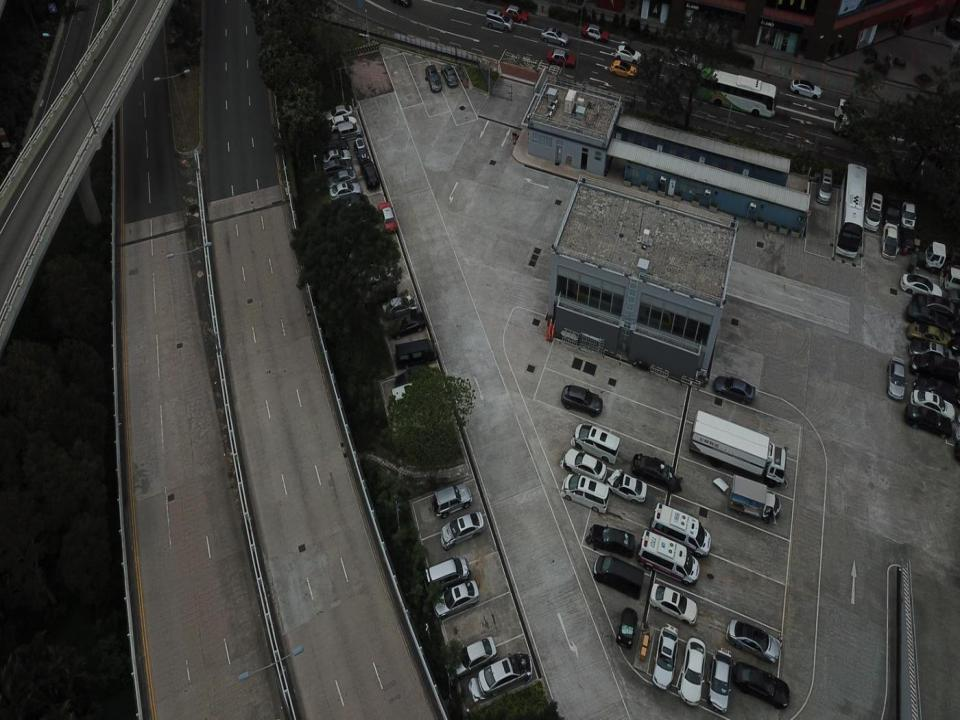bus: (697, 63, 778, 121), (834, 162, 869, 260)
car: (636, 527, 701, 585), (470, 650, 533, 702), (653, 502, 712, 556), (726, 616, 781, 664), (734, 662, 790, 707), (632, 450, 680, 496), (451, 635, 499, 681), (648, 581, 698, 625), (676, 635, 706, 707), (433, 580, 481, 619), (905, 401, 953, 440), (910, 348, 960, 385), (440, 511, 484, 552), (651, 624, 678, 689), (708, 647, 733, 714), (587, 522, 634, 556), (560, 448, 606, 482), (909, 388, 957, 420), (560, 382, 603, 417), (910, 290, 957, 322), (607, 466, 644, 504), (713, 374, 756, 404), (900, 270, 942, 300), (903, 301, 946, 330), (908, 334, 952, 361), (904, 319, 948, 346), (884, 356, 908, 401), (614, 606, 638, 648), (389, 311, 425, 339), (380, 292, 418, 316), (393, 364, 429, 389), (835, 97, 868, 124), (789, 78, 823, 102), (336, 192, 370, 216), (326, 167, 356, 193), (865, 193, 886, 230), (360, 154, 380, 192), (881, 216, 898, 260), (815, 163, 833, 204), (328, 180, 360, 202), (614, 42, 642, 67), (378, 199, 396, 235), (321, 157, 353, 177), (545, 46, 574, 68), (540, 24, 569, 46), (581, 19, 608, 42), (324, 104, 354, 124), (322, 147, 350, 168), (424, 62, 442, 94), (322, 135, 348, 157), (330, 114, 356, 136), (500, 5, 528, 25), (338, 120, 361, 142), (440, 62, 458, 90), (900, 197, 916, 228), (610, 58, 636, 77), (354, 137, 367, 161)
truck: (688, 410, 790, 488), (726, 474, 781, 525), (924, 237, 960, 273)
van: (592, 551, 644, 599), (571, 423, 621, 465), (426, 555, 472, 592), (394, 337, 437, 370), (431, 483, 471, 516), (392, 384, 429, 409), (485, 8, 512, 34)
